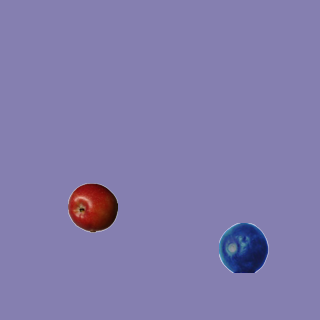Apple Braeburn: (67, 182, 117, 232)
Huckleberry: (218, 222, 268, 272)
